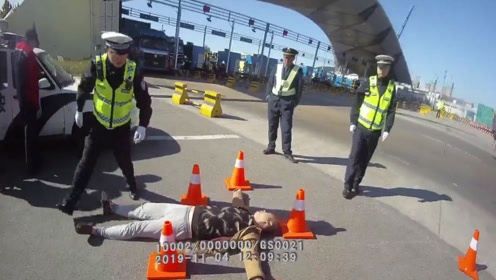falling: (72, 189, 283, 266)
